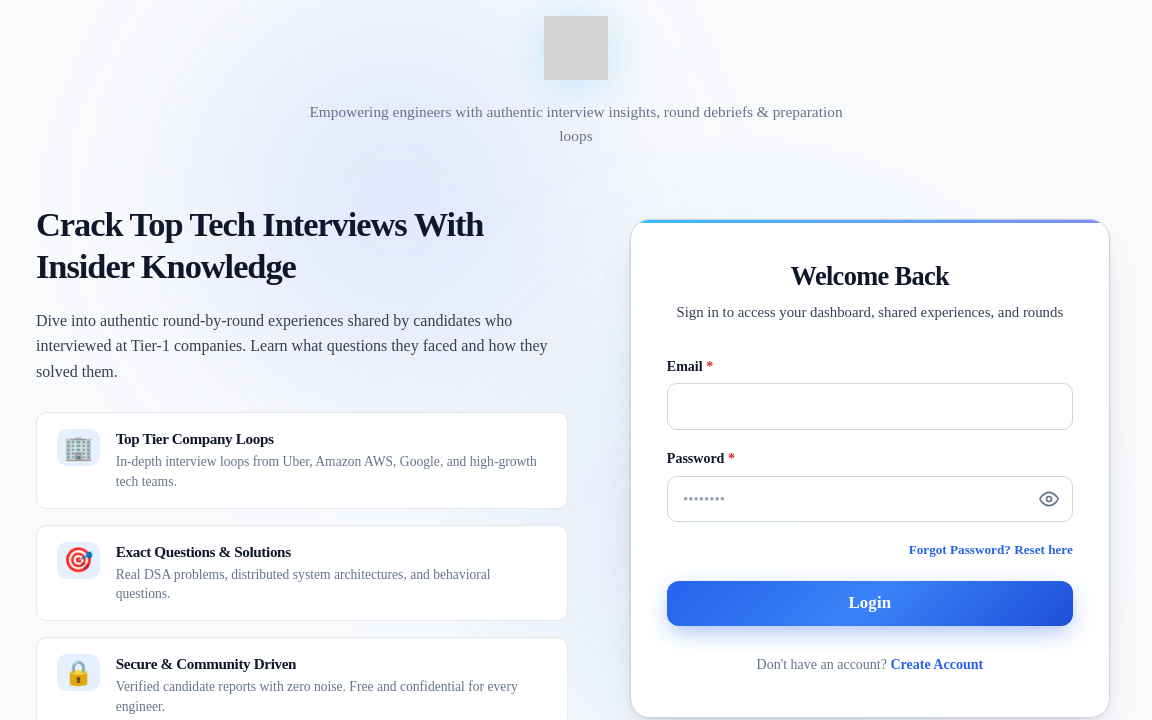
AUTH: Login, Register, State, Logout & Protected Routes › Login Form › displays validation error for invalid email format
The width and height of the screenshot is (1152, 720).
Type "not-an-email" into the field labelled "Email *".
click(870, 406); type("not-an-email")  # box [667, 383, 1073, 430]
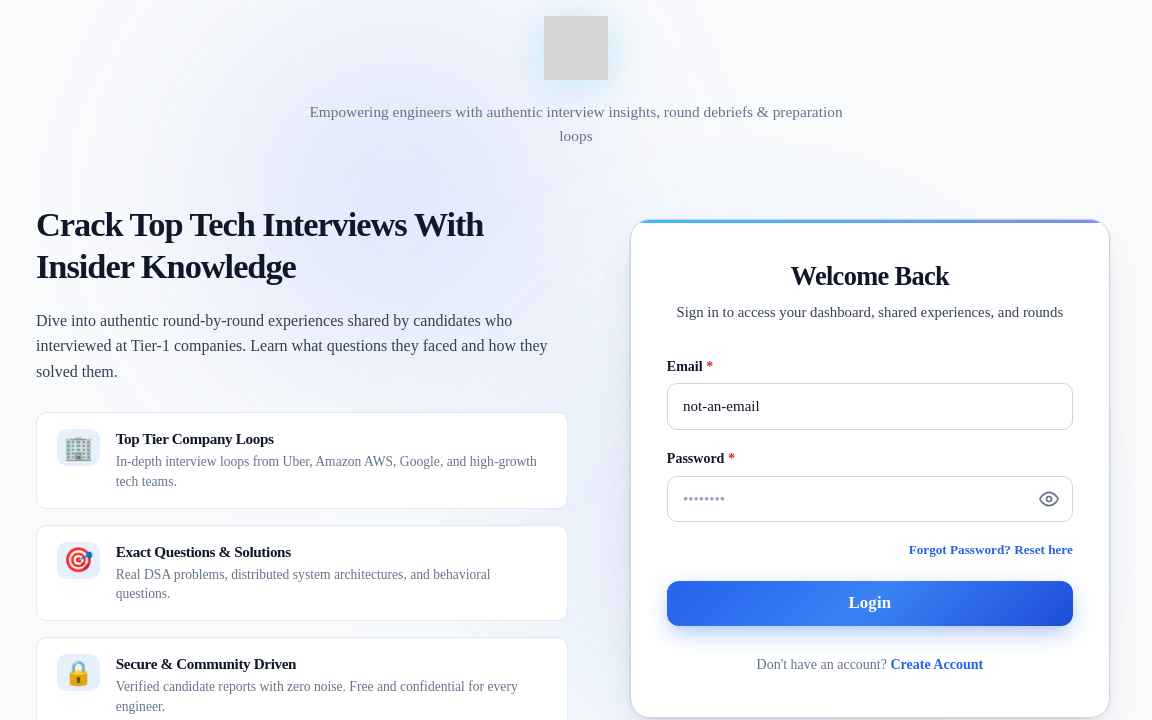
Click the button "Login".
click(870, 604)  # box [667, 581, 1073, 626]
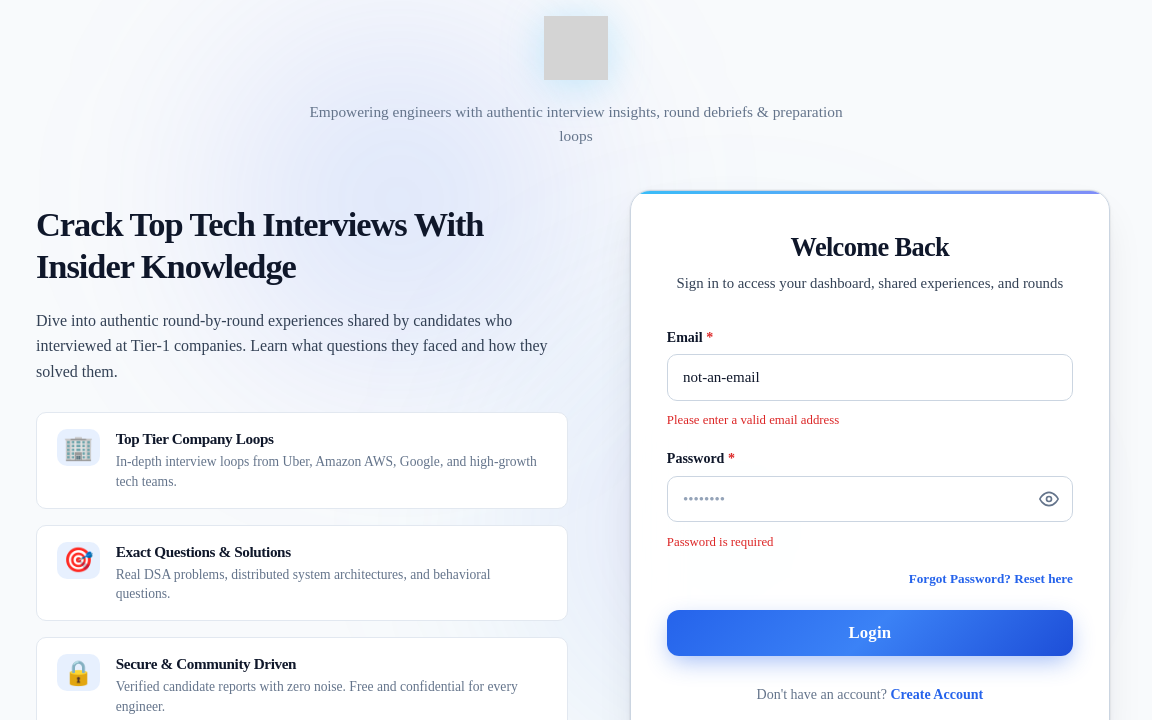
Expected: the text "Please enter a valid email address" is shown, [667, 413, 839, 427]
